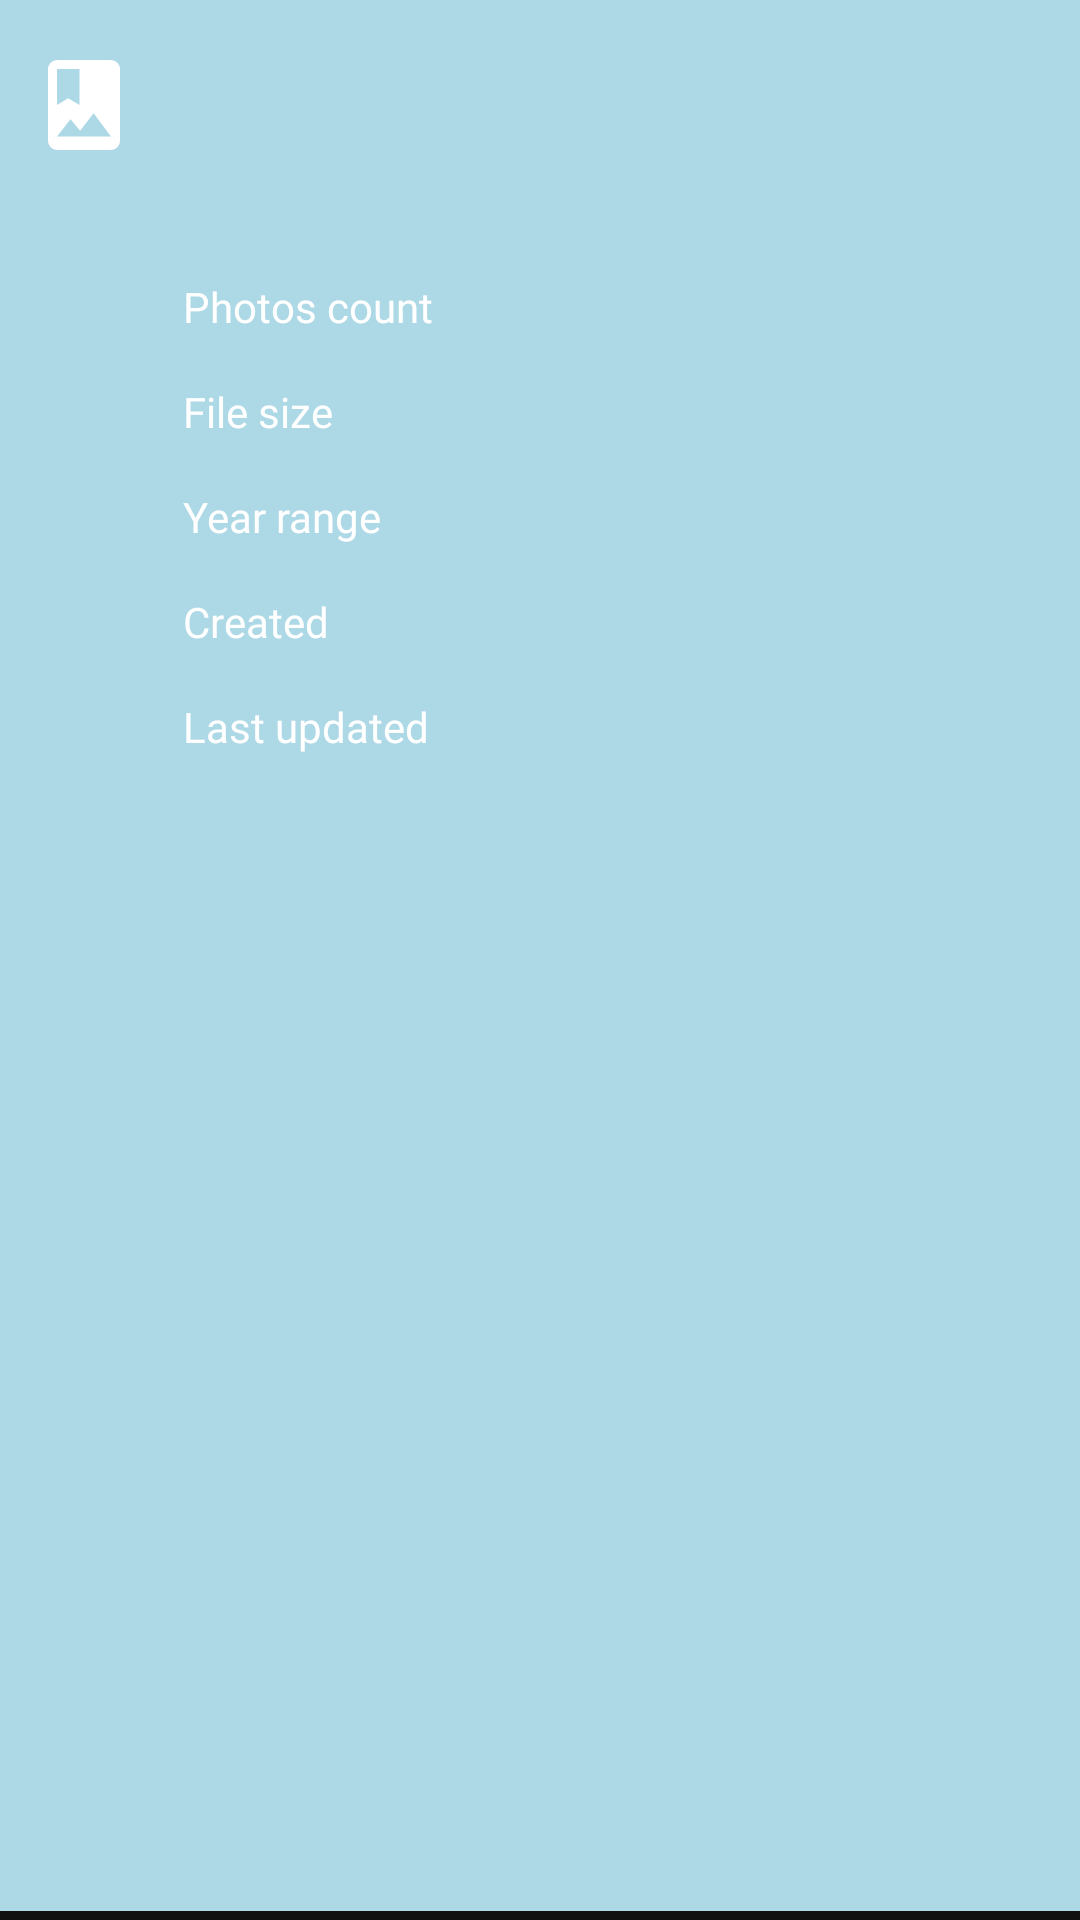

Named icons in this screenshot (1080px x 1920px) and their centers, (x=x, y=y):
album: (x=84, y=105)
